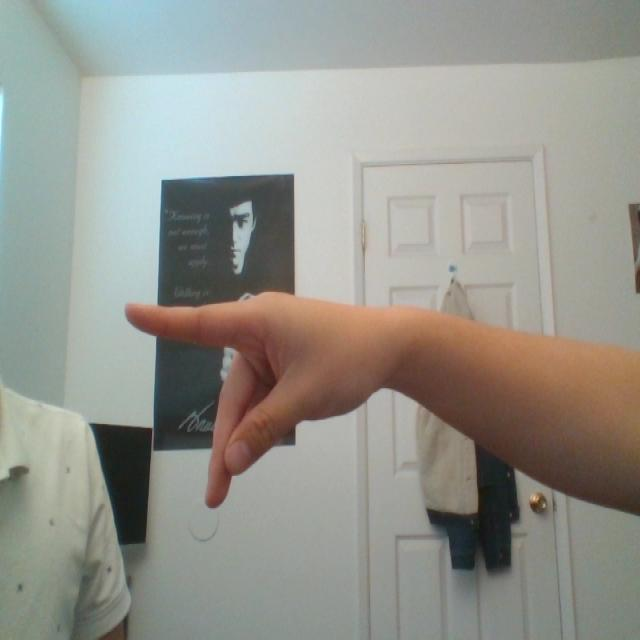P: (109, 243, 428, 522)
